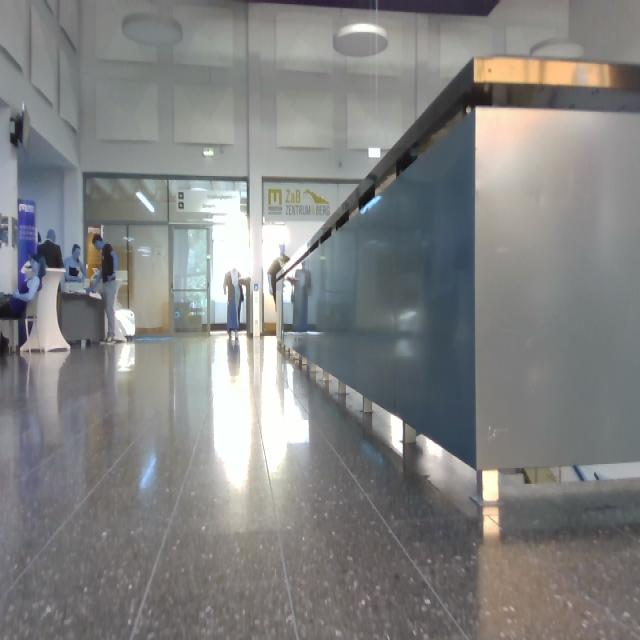door: (172, 217, 250, 330), (129, 226, 170, 336)
light bulb: (123, 14, 183, 48), (334, 24, 388, 57), (530, 40, 584, 60), (136, 190, 155, 213), (361, 196, 381, 214)
person: (1, 261, 42, 348), (91, 236, 117, 341), (224, 269, 250, 338), (288, 265, 311, 332), (268, 246, 290, 310), (38, 230, 63, 268), (65, 245, 86, 282)
staircase: (281, 58, 640, 505)
table: (22, 269, 70, 352)
tiled floor: (1, 334, 640, 640)
